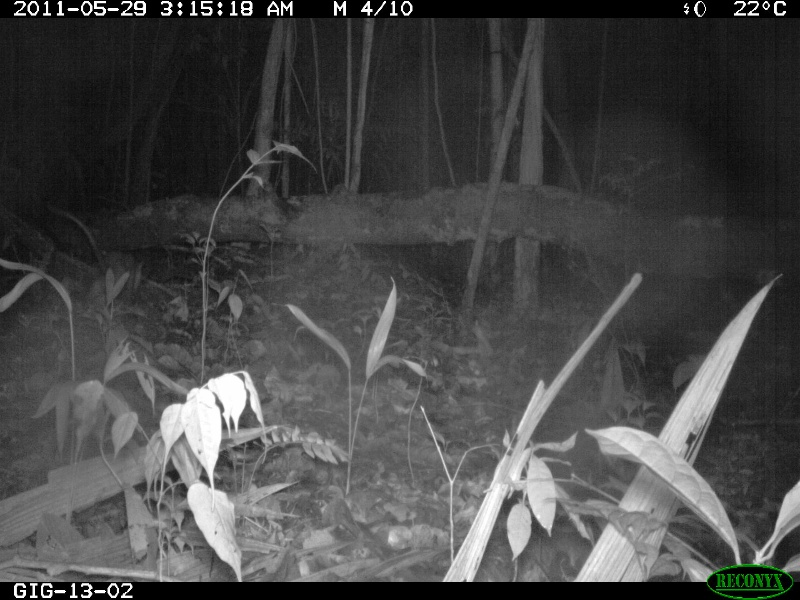opossum: (63, 209, 148, 297)
